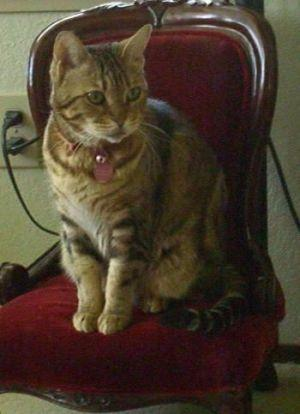bengal: (39, 15, 159, 148)
